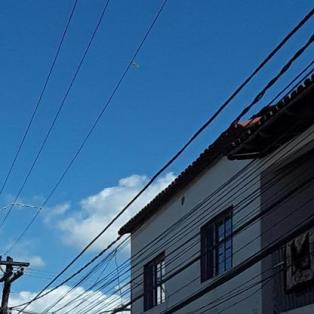Poste: (0, 249, 15, 313)
